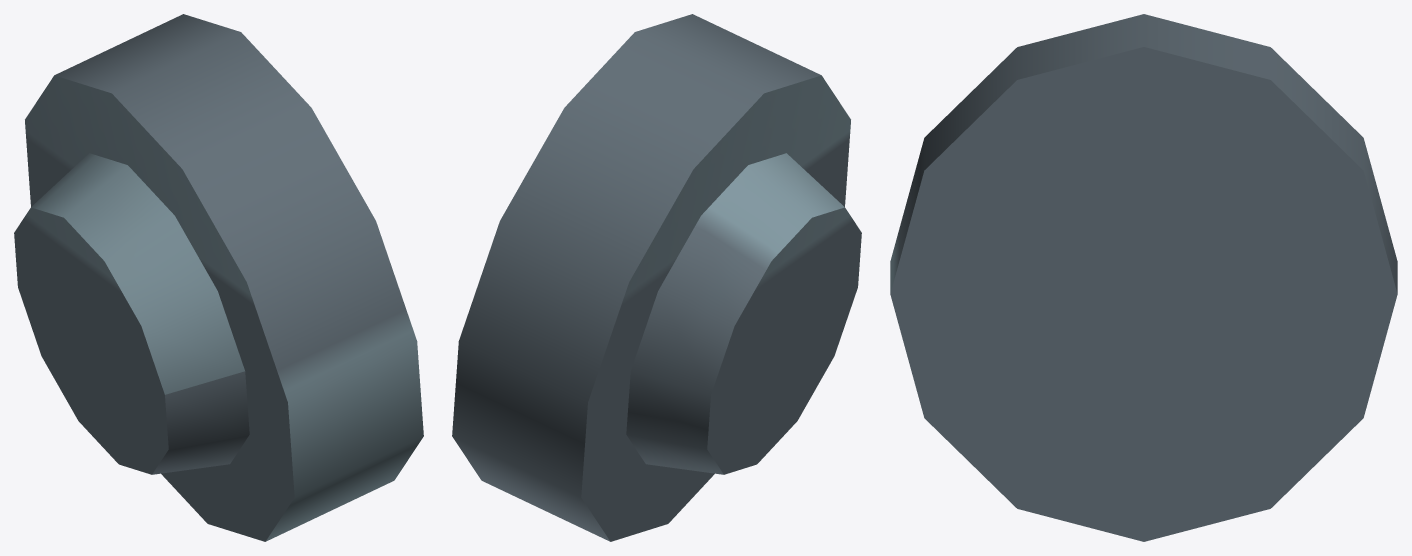
The model's file is wheel_basic_back_l.fbx.
3 renders of one model, left to right at view 1: azimuth 30°, elevation 25°; view 2: azimuth 150°, elevation 25°; view 3: azimuth 270°, elevation 25°, orthographic.
Parts seen in each view (by area): view 1: wheel_basic_back_l; view 2: wheel_basic_back_l; view 3: wheel_basic_back_l.
Part boxes in pixels (bbox=[...]): wheel_basic_back_l: bbox=[14, 14, 423, 541]; wheel_basic_back_l: bbox=[452, 14, 861, 541]; wheel_basic_back_l: bbox=[890, 14, 1397, 541].
Bounding box in the file's own units: 2.73 × 4.63 × 4.44.
